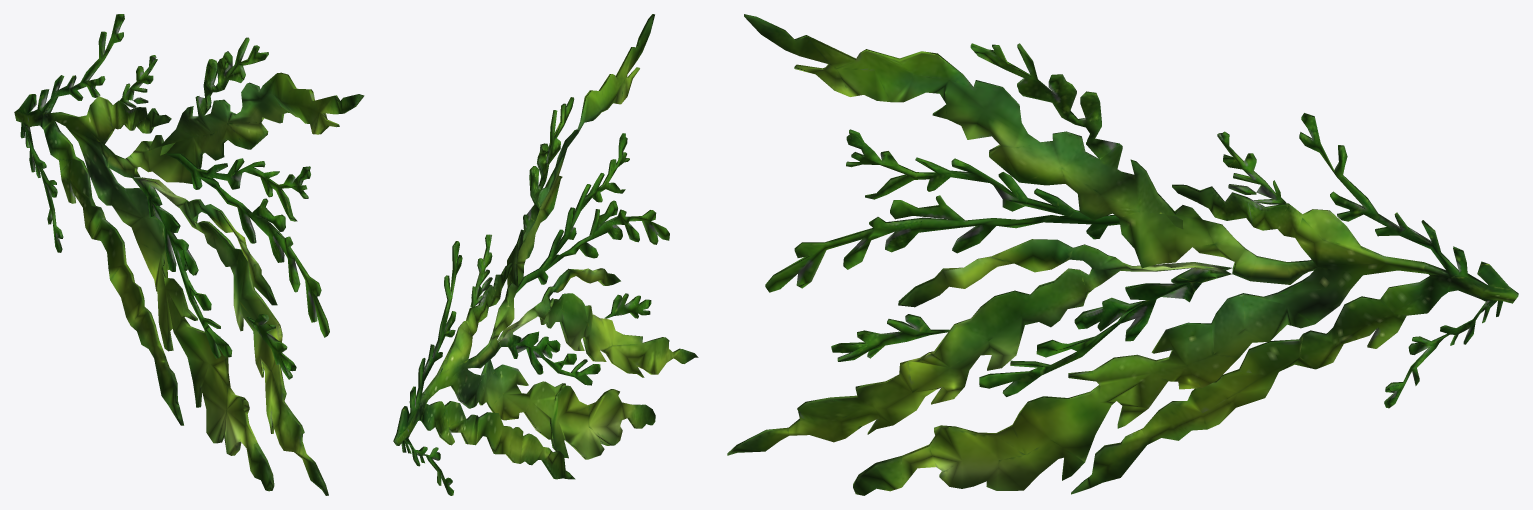
The model's file is algas_abissais_3d.obj.
3 views of the same model, side by side, from view 1: azimuth 30°, elevation 25°; view 2: azimuth 150°, elevation 25°; view 3: azimuth 270°, elevation 25° (orthographic). The views are drawn at different scales.
Parts seen in each view (by area): view 1: alga; view 2: alga; view 3: alga.
Boxes of the visible parts, left/top/right/bottom form: alga: left=14, top=14, right=364, bottom=495; alga: left=393, top=14, right=698, bottom=495; alga: left=727, top=14, right=1518, bottom=495.
Bounding box in the file's own units: 0.4231 × 2.82 × 3.98.
1 material, 1 textured.
